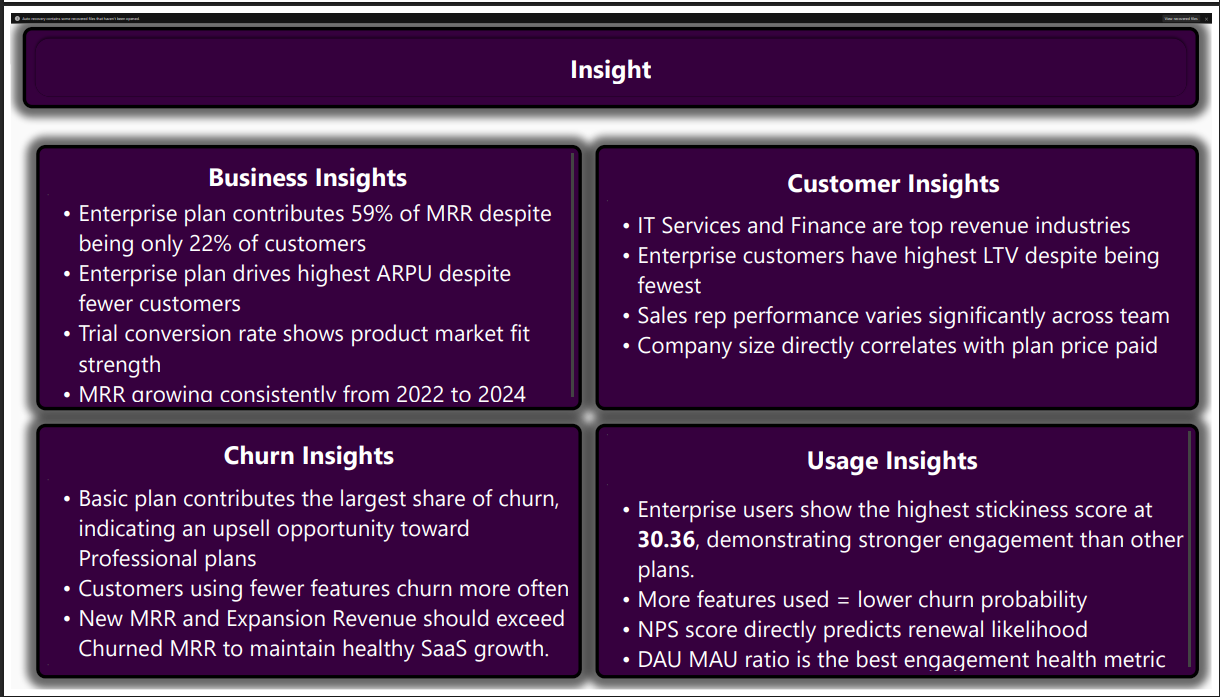

This screenshot's page, from the dashboard's own definition file:
{"tool":"powerbi","page":{"name":"INSIGHTS","canvas":[3840,2160],"ordinal":4},"visuals":[{"type":"shape","box":[39,43.3,3761.3,259.7],"z":0},{"type":"textbox","box":[82.2,419.8,1744.3,848.3],"z":1000},{"type":"textbox","box":[82.2,1311.5,1744.3,813.7],"z":2000},{"type":"textbox","box":[1869.8,419.8,1930.4,848.3],"z":3000},{"type":"textbox","box":[1869.8,1311.5,1930.4,813.7],"z":4000}]}

Visuals, with their boxes on the page's 3840x2160 design canvas (x1, y1, x2, y2). These are canvas units, not pixel positions in the 1220x697 screenshot, which may show the page scaled, cropped or inside an application window:
shape: Rect(39, 43, 3800, 303)
textbox: Rect(82, 420, 1826, 1268)
textbox: Rect(82, 1312, 1826, 2125)
textbox: Rect(1870, 420, 3800, 1268)
textbox: Rect(1870, 1312, 3800, 2125)
